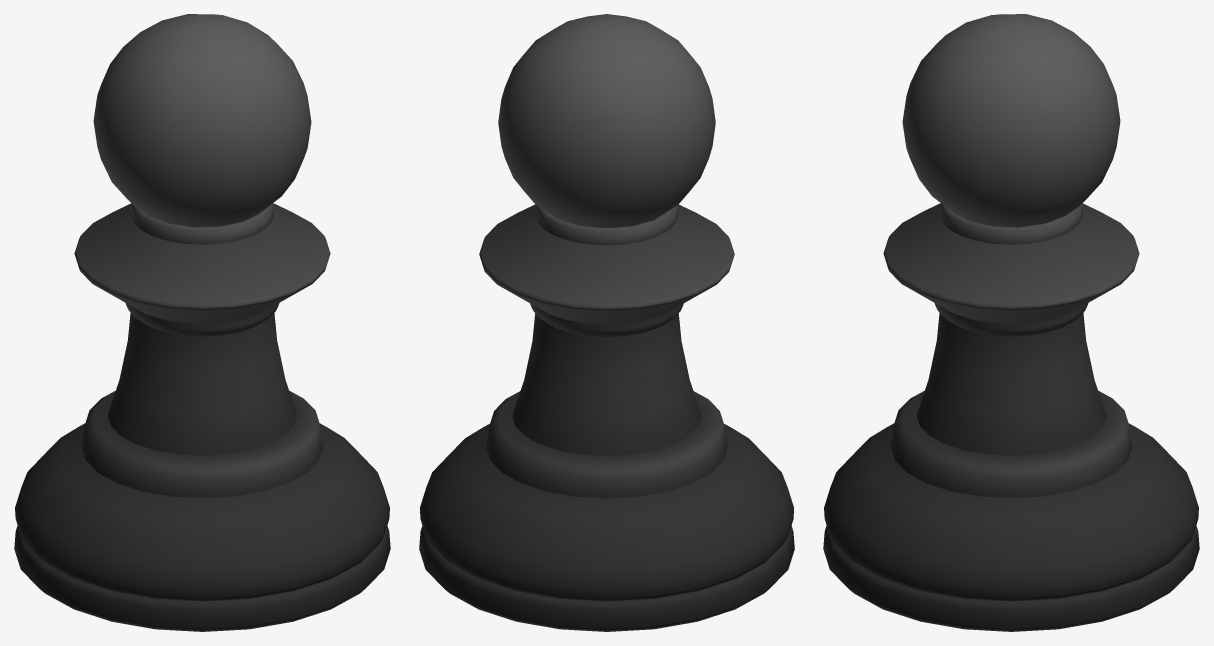
File: Chess_Black_Pawn_01.glb
The picture shows the model from 3 angles, left to right: view 1: azimuth 30°, elevation 25°; view 2: azimuth 150°, elevation 25°; view 3: azimuth 270°, elevation 25°; orthographic projection.
Parts seen in each view (by area): view 1: Chess_Black_Pawn_01; view 2: Chess_Black_Pawn_01; view 3: Chess_Black_Pawn_01.
Part boxes in pixels (x1,y1,x2,y2): Chess_Black_Pawn_01: [14, 14, 390, 631]; Chess_Black_Pawn_01: [419, 14, 794, 631]; Chess_Black_Pawn_01: [823, 14, 1199, 631].
Size of the model in its own units: 0.0287 by 0.0454 by 0.0288.
Materials: 2 (2 with a texture image).
